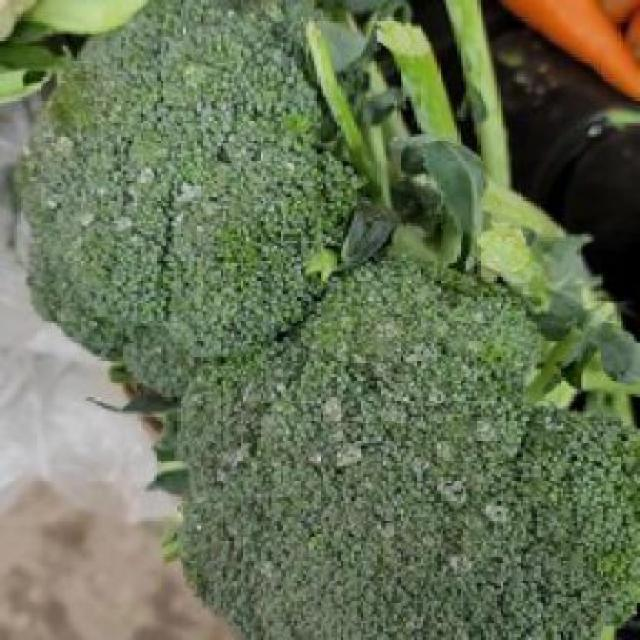broccoli: (162, 306, 638, 628), (23, 8, 360, 344)
